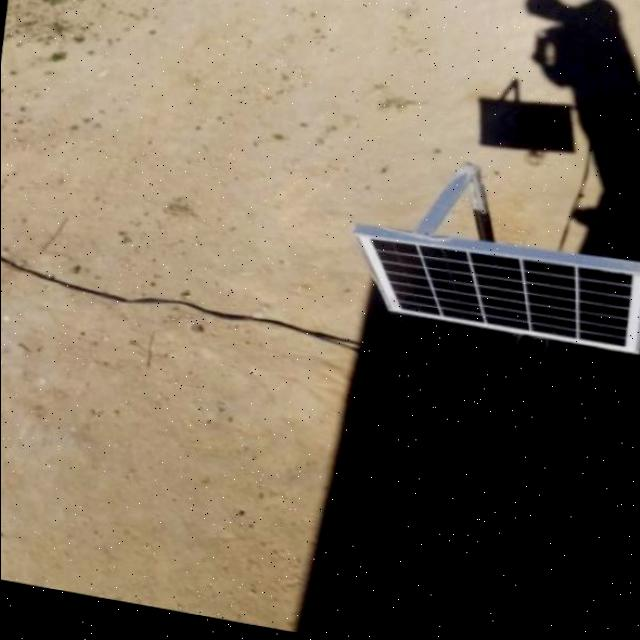Normal Solar Panel: (347, 222, 640, 358)
